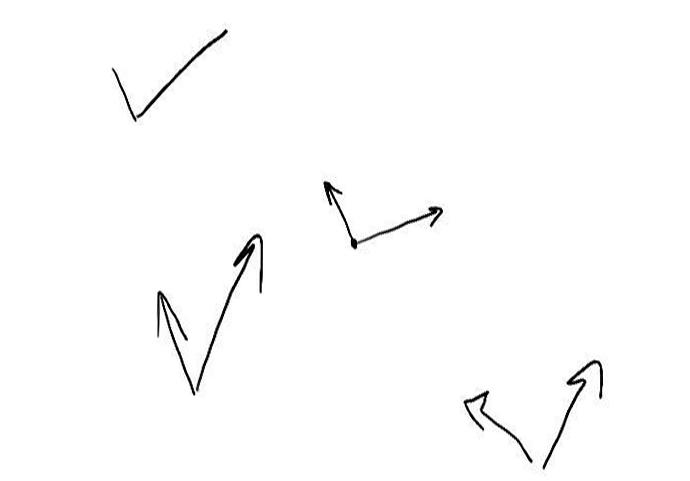arrow: (195, 233, 265, 388), (543, 359, 605, 466), (462, 389, 535, 463), (154, 290, 195, 395), (359, 204, 442, 241), (323, 183, 352, 240)
arrownohead: (137, 26, 228, 116), (112, 66, 135, 120)
